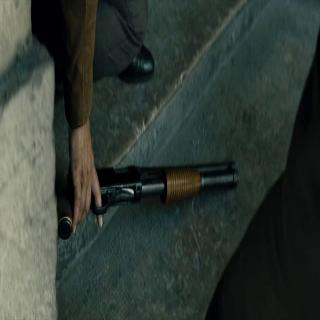gun: (54, 143, 246, 247)
